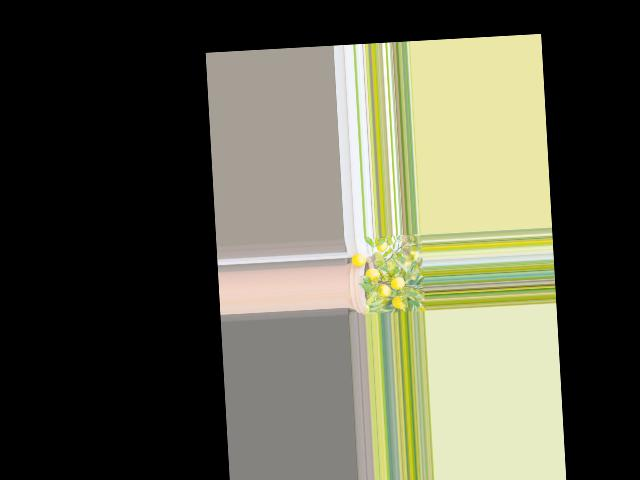lemon: (373, 240, 389, 252)
